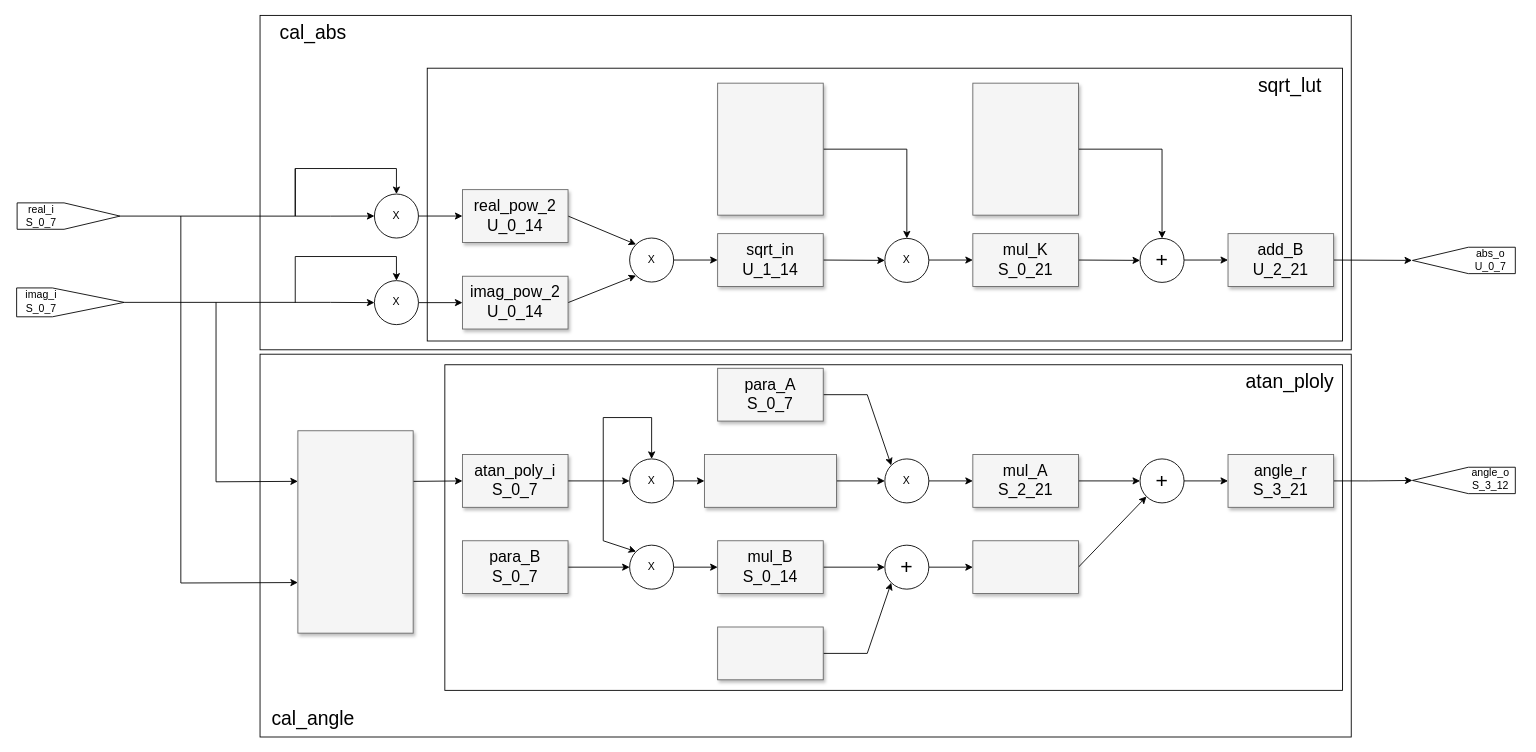
This 1536x752 diagram has some shape labels left out. Each missing label, with the centre of its shape:
add_C S_1_14: pixel 1026 568
atan_poly_pow_2 U_2_14: pixel 771 481
B-rom S_0_7: pixel 1026 150
K-rom S_0_7: pixel 771 150
para_C S_0_7: pixel 771 654
Pattern Match: pixel 355 532
